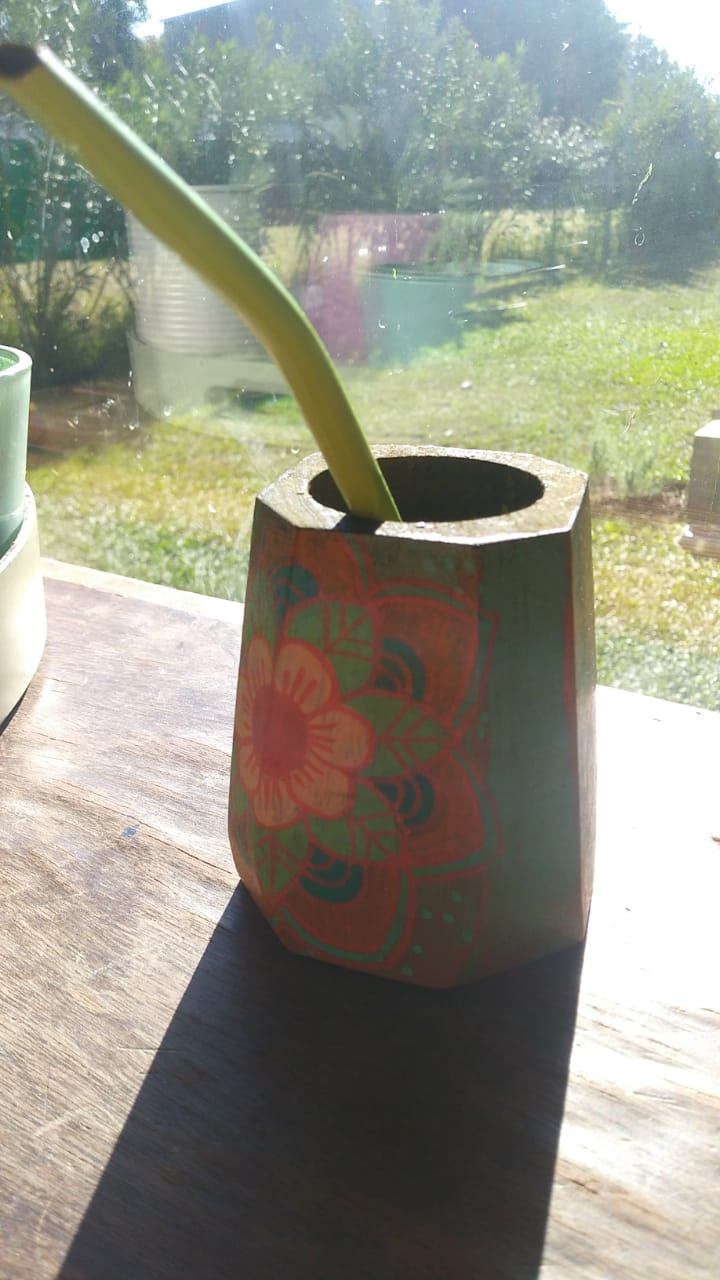mate: (228, 440, 606, 988)
